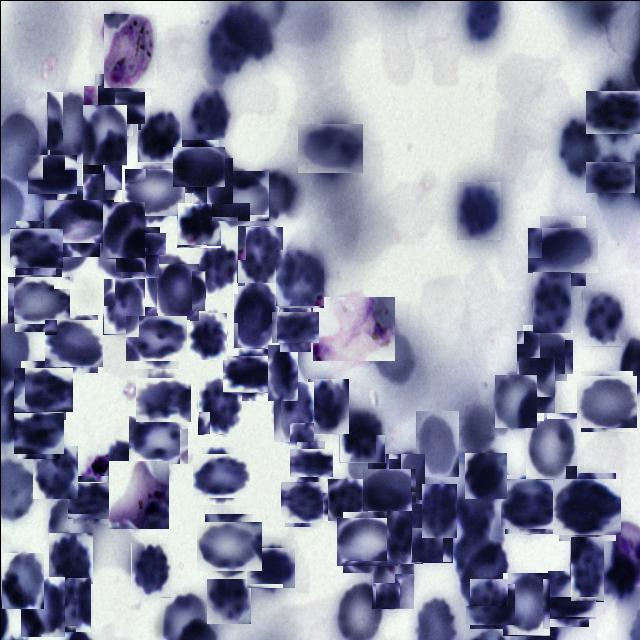red blood cell: (556, 475, 618, 537), (46, 91, 96, 163), (524, 412, 576, 481), (200, 516, 258, 574), (533, 221, 591, 279), (301, 118, 358, 176), (49, 192, 106, 249), (578, 372, 634, 429), (232, 282, 278, 348), (502, 476, 557, 531), (10, 272, 65, 327), (339, 514, 394, 569), (459, 542, 507, 605), (502, 572, 549, 635), (371, 538, 413, 608), (130, 412, 184, 466), (128, 310, 182, 364), (127, 165, 181, 219), (212, 168, 266, 222), (46, 316, 100, 369), (274, 248, 323, 306), (415, 410, 458, 476), (242, 170, 294, 224), (81, 104, 126, 165), (236, 225, 282, 284), (16, 364, 68, 416), (588, 86, 640, 138), (146, 254, 192, 312), (556, 116, 599, 178), (20, 576, 64, 636), (194, 450, 246, 500), (456, 181, 500, 239), (338, 407, 384, 462), (187, 87, 232, 143), (206, 566, 250, 623), (272, 381, 313, 442), (88, 79, 138, 129), (137, 374, 187, 424), (519, 326, 569, 376), (410, 503, 452, 562), (136, 107, 181, 162), (197, 378, 241, 434), (101, 201, 144, 258), (581, 290, 624, 346), (32, 445, 77, 498), (191, 146, 232, 204), (102, 278, 144, 334), (543, 574, 592, 622), (153, 266, 202, 314), (1, 552, 43, 608), (532, 271, 570, 332), (48, 577, 90, 632), (306, 378, 348, 433), (494, 372, 536, 427), (364, 465, 412, 513), (48, 532, 92, 583), (384, 453, 424, 509), (569, 536, 603, 601), (12, 223, 59, 270), (174, 142, 222, 188), (130, 542, 170, 597), (282, 478, 328, 524), (15, 410, 61, 456), (517, 357, 554, 413), (226, 351, 272, 396), (467, 580, 512, 626), (81, 162, 121, 213), (117, 229, 162, 274), (30, 150, 74, 196), (176, 202, 220, 247), (248, 544, 292, 589), (196, 245, 237, 293), (464, 452, 506, 498), (386, 510, 422, 563), (421, 483, 456, 537), (70, 478, 112, 520), (189, 311, 226, 358), (267, 344, 297, 400), (590, 156, 630, 196), (274, 306, 314, 346), (327, 478, 362, 520), (292, 444, 328, 480)
trophozoite: (312, 296, 394, 360), (108, 460, 168, 528), (103, 13, 156, 87)
